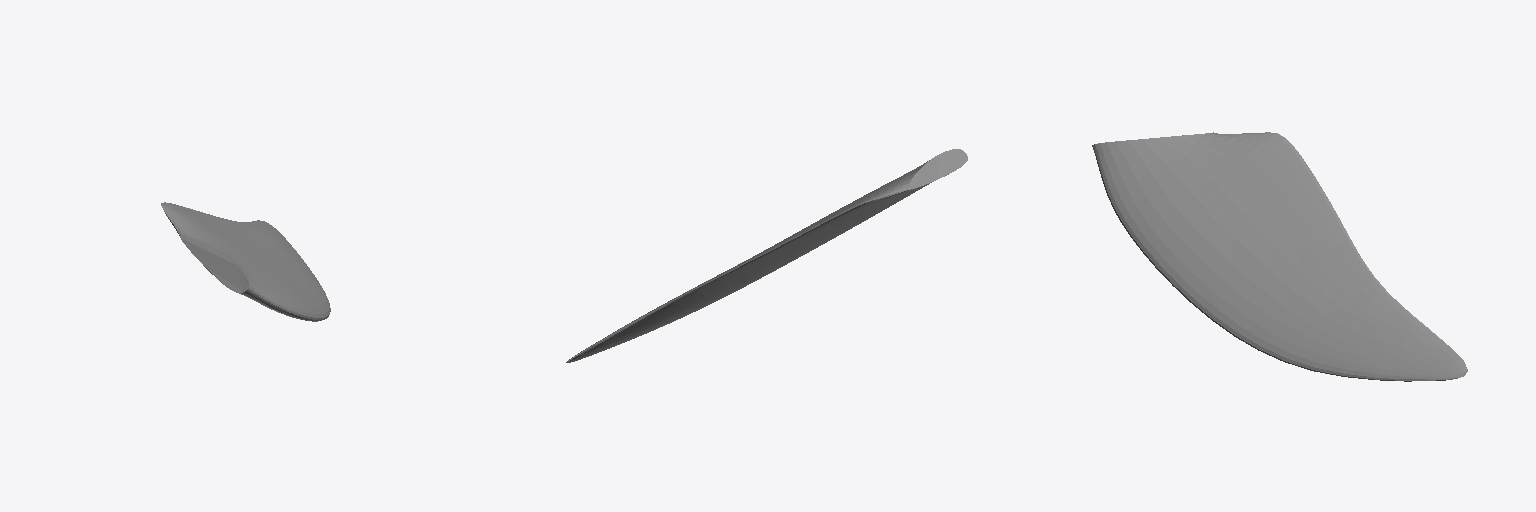
Rendered from AletaI_delfin.obj.
3 views of the same model, side by side, from view 1: azimuth 30°, elevation 25°; view 2: azimuth 150°, elevation 25°; view 3: azimuth 270°, elevation 25° (orthographic).
Parts seen in each view (by area): view 1: dolphin; view 2: dolphin; view 3: dolphin.
Boxes of the visible parts, x1,y1,x2,y2 form: dolphin: [161, 202, 330, 321]; dolphin: [566, 149, 967, 362]; dolphin: [1092, 132, 1467, 381].
Bounding box in the file's own units: 9.98 × 6.47 × 14.58.